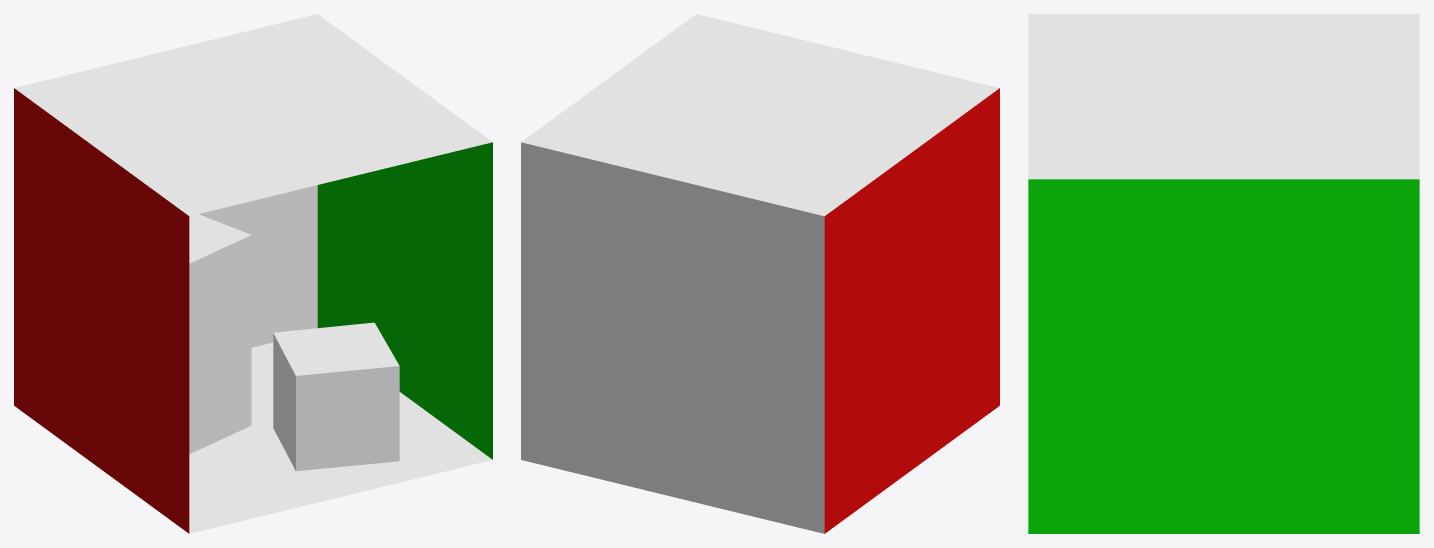
File: cornellbox-mixed.obj
3 renders of one model, left to right at view 1: azimuth 30°, elevation 25°; view 2: azimuth 150°, elevation 25°; view 3: azimuth 270°, elevation 25°, orthographic. The views are drawn at different scales.
Parts seen in each view (by area): view 1: leftWall_Mesh, ceiling_Mesh, rightWall_Mesh, floor_Mesh, shortBox_Mesh, tallBox_Mesh, frontWall_Mesh; view 2: frontWall_Mesh, leftWall_Mesh, ceiling_Mesh; view 3: rightWall_Mesh, ceiling_Mesh.
Part boxes in pixels (left/top/right/bottom): leftWall_Mesh: left=14, top=88, right=189, bottom=533; ceiling_Mesh: left=14, top=14, right=492, bottom=216; rightWall_Mesh: left=317, top=142, right=492, bottom=459; floor_Mesh: left=189, top=342, right=492, bottom=533; shortBox_Mesh: left=273, top=322, right=399, bottom=471; tallBox_Mesh: left=189, top=214, right=251, bottom=453; frontWall_Mesh: left=198, top=185, right=317, bottom=347; frontWall_Mesh: left=521, top=142, right=824, bottom=533; leftWall_Mesh: left=824, top=88, right=999, bottom=533; ceiling_Mesh: left=521, top=14, right=999, bottom=216; rightWall_Mesh: left=1028, top=179, right=1419, bottom=533; ceiling_Mesh: left=1028, top=14, right=1419, bottom=179.
Bounding box in the file's own units: 2 × 2.1 × 2.
